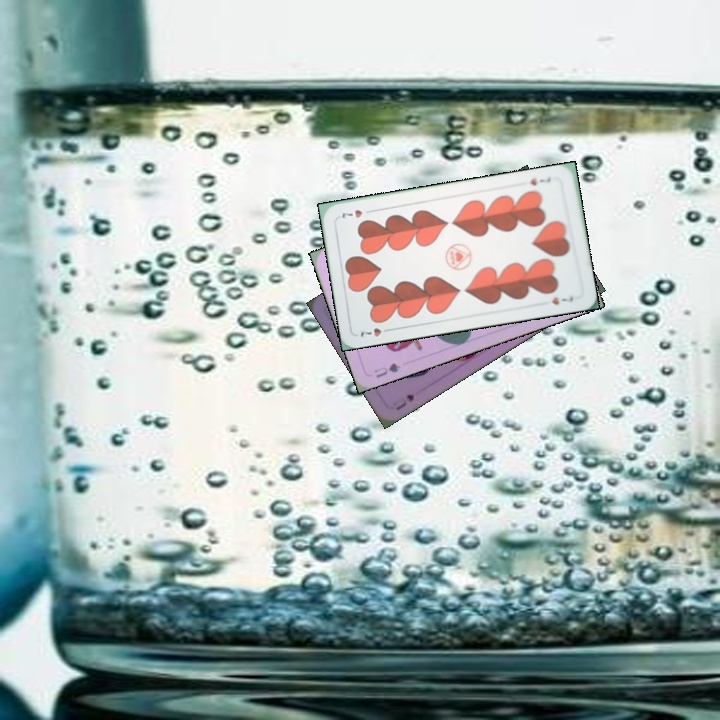GU: (370, 359, 403, 381)
H7: (355, 324, 395, 340), (526, 174, 553, 188)
SU: (392, 390, 418, 413)
